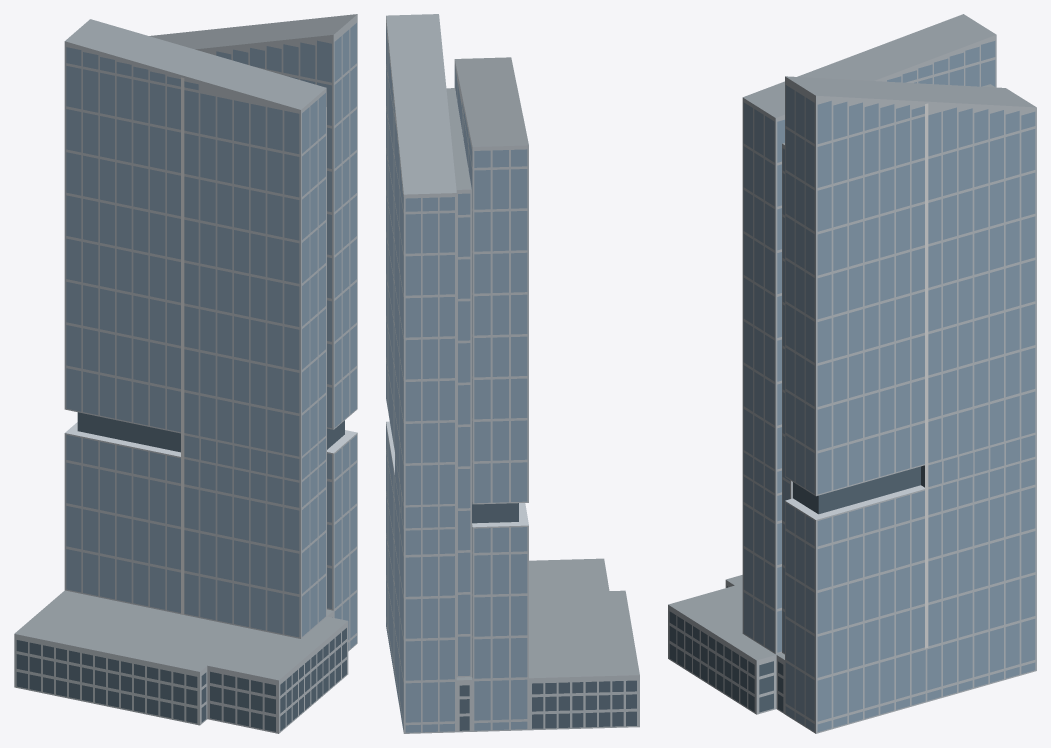
Rendered from cle-sherwin-williams-tower.glb.
3 views of the same model, side by side, from view 1: azimuth 30°, elevation 25°; view 2: azimuth 150°, elevation 25°; view 3: azimuth 270°, elevation 25° (orthographic). The views are drawn at different scales.
Visible parts, largest first — view 1: Sherwin-Williams Headquarters Tower; view 2: Sherwin-Williams Headquarters Tower; view 3: Sherwin-Williams Headquarters Tower.
Part boxes in pixels (x1,y1,x2,y2): Sherwin-Williams Headquarters Tower: [14, 14, 357, 733]; Sherwin-Williams Headquarters Tower: [386, 14, 639, 733]; Sherwin-Williams Headquarters Tower: [668, 14, 1036, 733].
Bounding box in the file's own units: 94.56 × 188 × 98.46.
